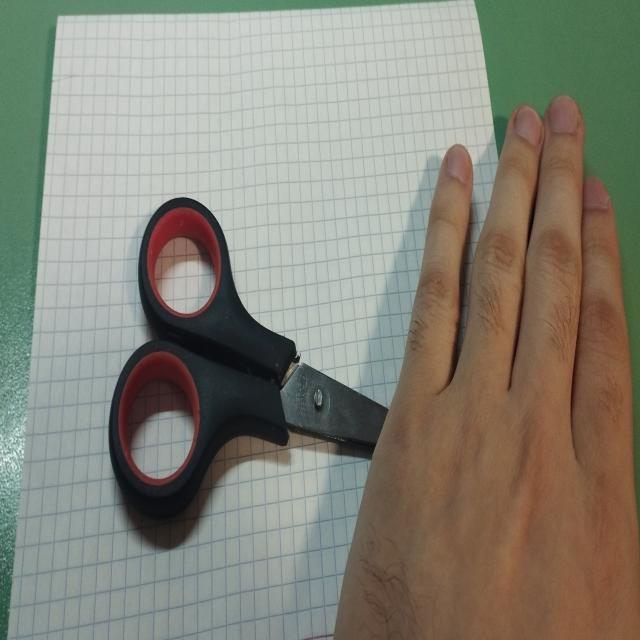tesoura: (104, 186, 514, 526)
